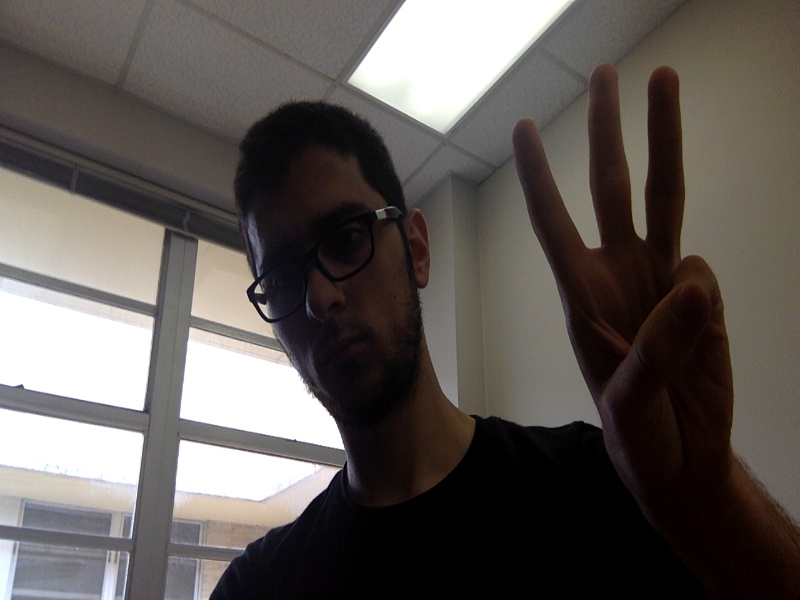3-hand: (514, 64, 735, 505)
